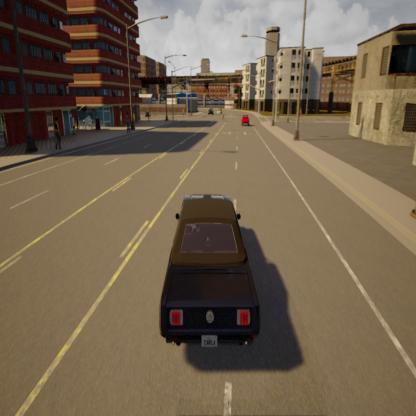Cars: (156, 169, 270, 364), (239, 111, 254, 136), (206, 104, 214, 117), (216, 107, 224, 118)
Pedestrian: (52, 115, 63, 153), (72, 120, 76, 148), (182, 108, 186, 121), (222, 112, 226, 124)
